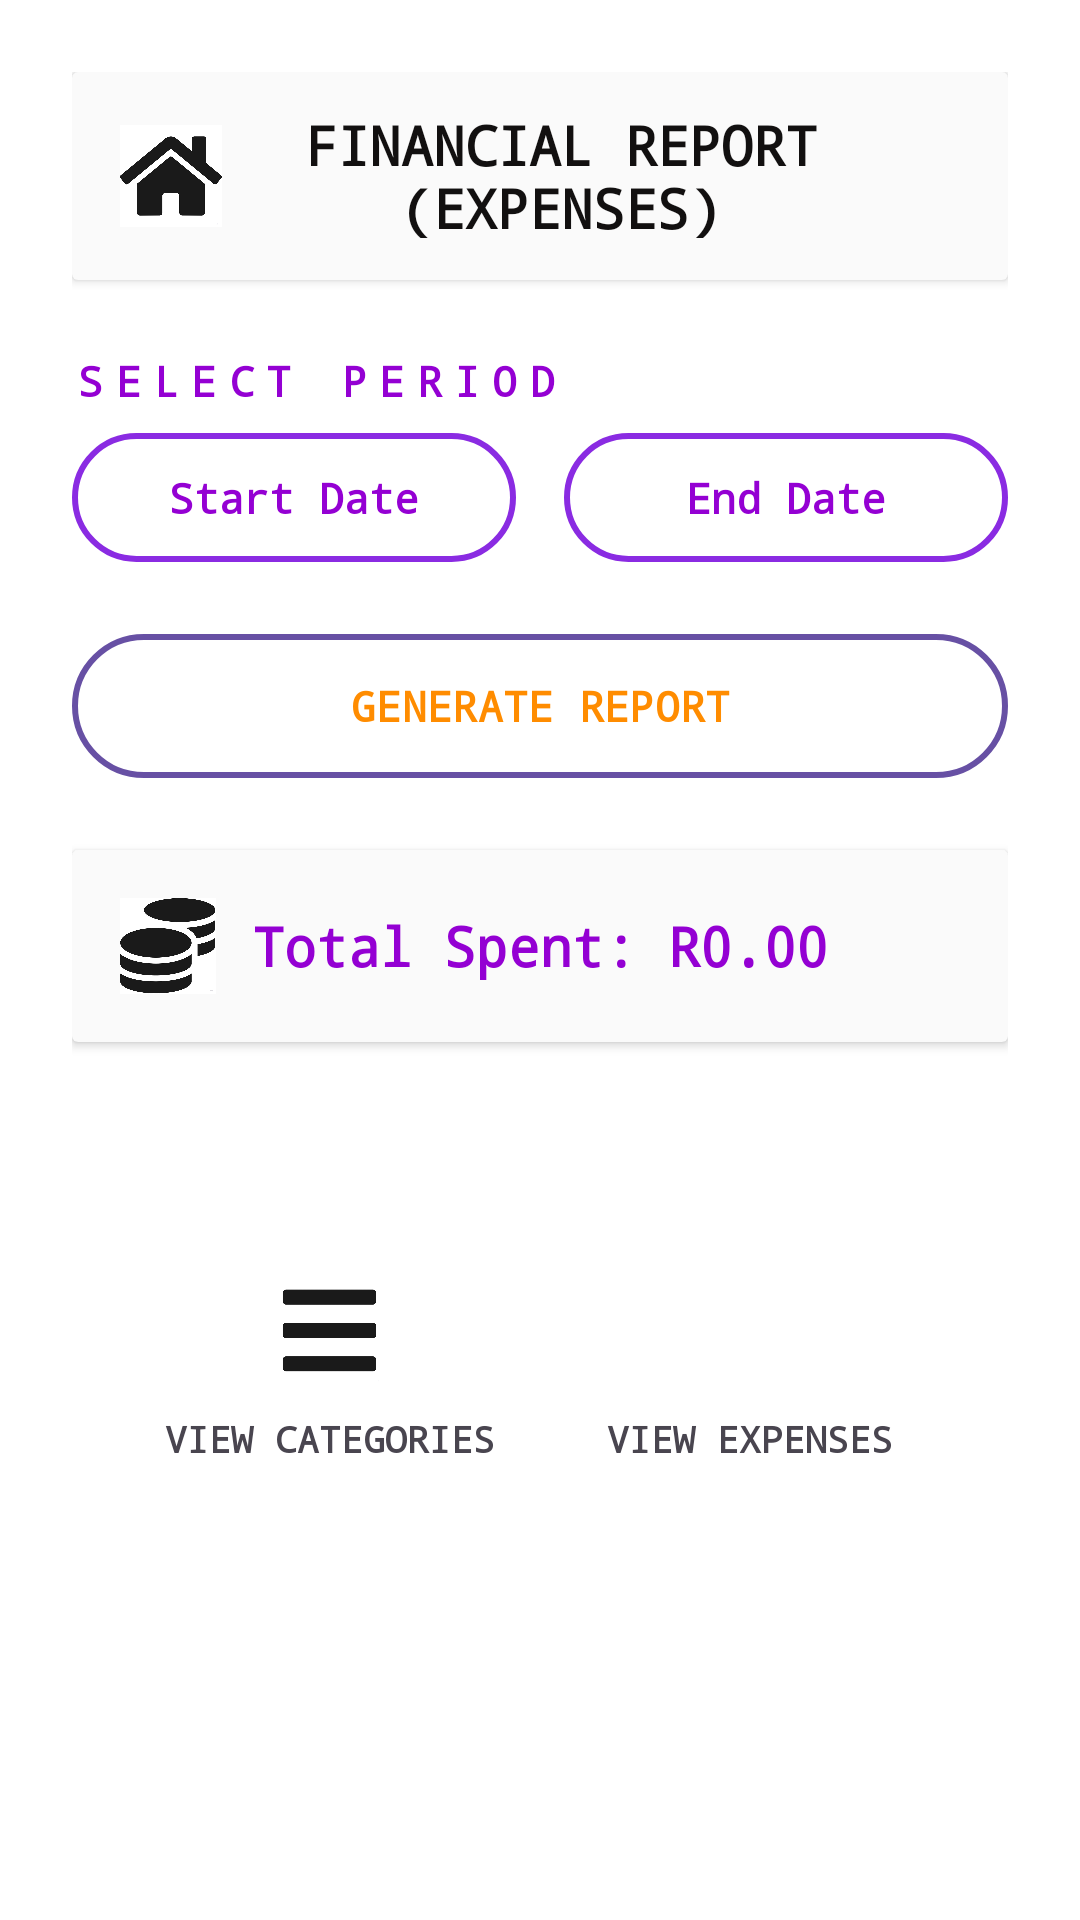

Named icons in this screenshot (1080w x 1920h) and their centers, (x,y):
Back to Dashboard: (171,176)
